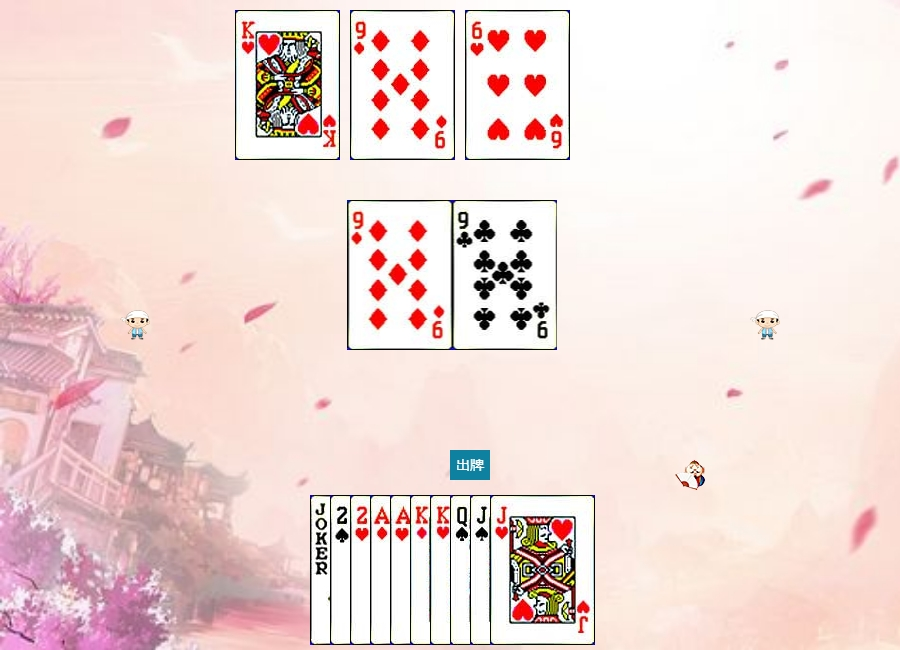11~3: (490, 495, 595, 645)
11~4: (470, 495, 575, 645)
12~4: (450, 495, 555, 645)
13~1: (410, 495, 515, 645)
13~3: (235, 10, 340, 160), (430, 495, 535, 645)
14~1: (370, 495, 475, 645)
14~3: (390, 495, 495, 645)
15~3: (350, 495, 455, 645)
15~4: (330, 495, 435, 645)
17~3: (310, 495, 415, 645)
6~3: (465, 10, 570, 160)
9~1: (350, 10, 455, 160), (348, 200, 453, 350)
9~2: (453, 200, 558, 350)
